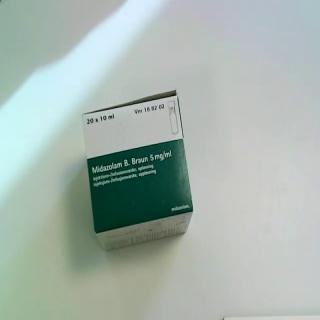midazolam5mg_ml: (81, 88, 196, 254)
